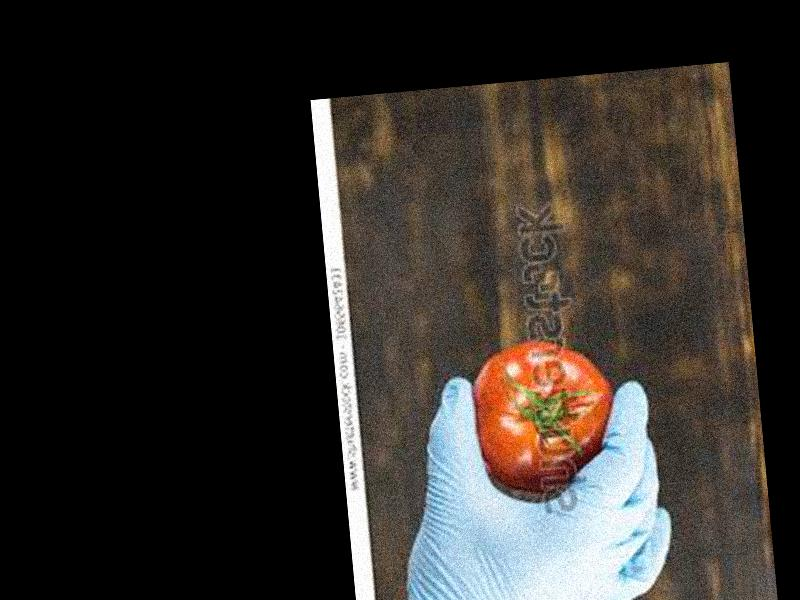Tomato: (467, 332, 621, 499)
